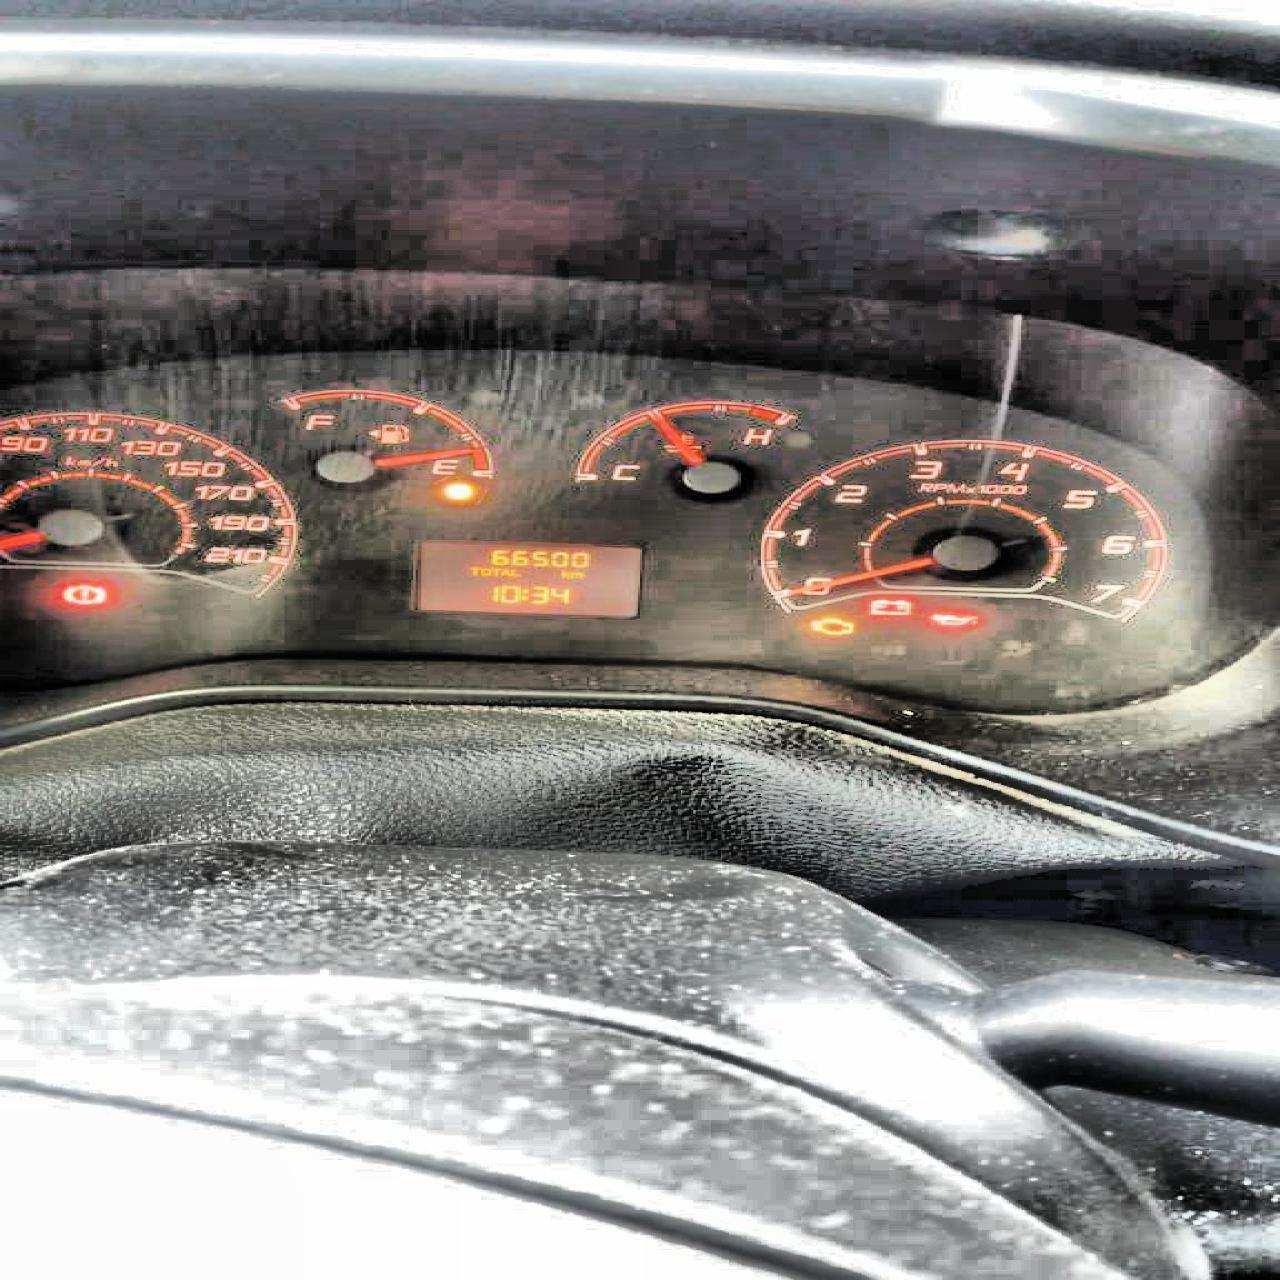0: (498, 584, 518, 602), (549, 550, 568, 566), (568, 551, 587, 566)
1: (489, 585, 498, 601)
3: (526, 585, 546, 604)
4: (549, 586, 568, 602)
5: (529, 550, 547, 566)
6: (509, 549, 527, 565), (489, 549, 508, 565)
X: (558, 567, 568, 579), (517, 587, 526, 600), (478, 566, 489, 576), (467, 566, 477, 576), (489, 567, 501, 574), (568, 572, 583, 578), (509, 567, 520, 574), (501, 567, 509, 577)
odometer: (404, 535, 648, 620)
